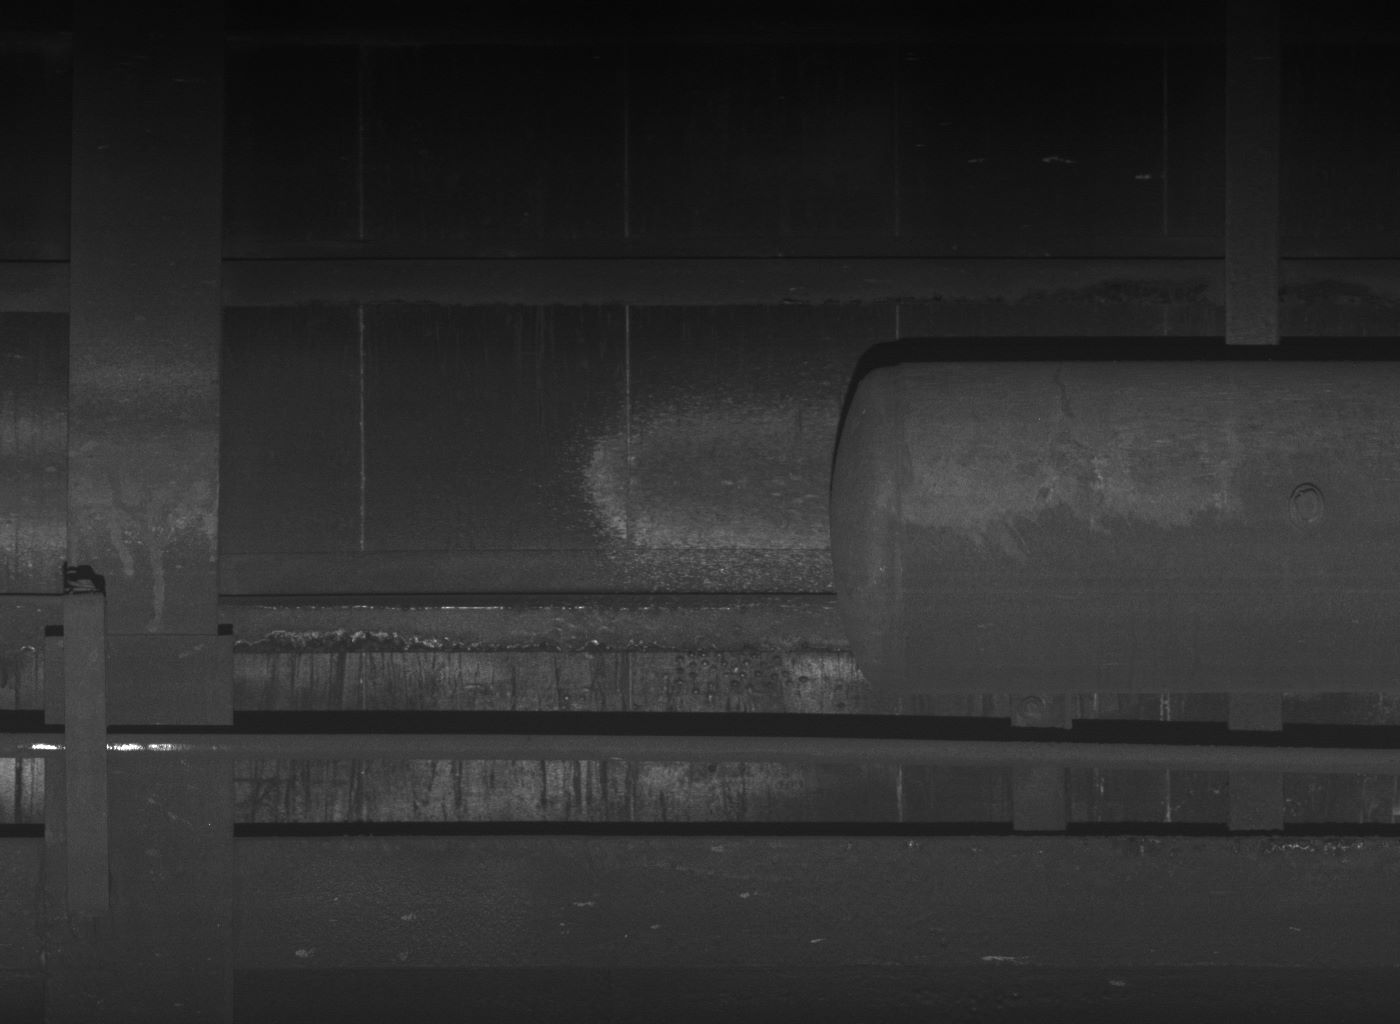normal: (61, 578, 109, 913)
